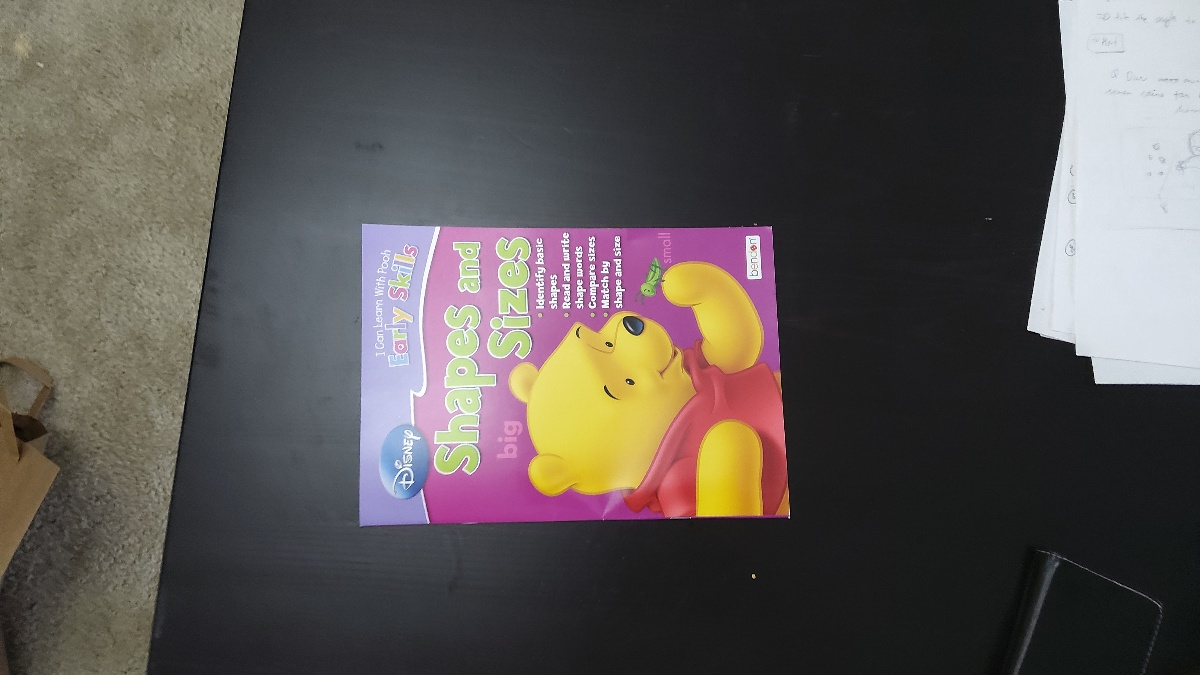book: (363, 224, 783, 520)
